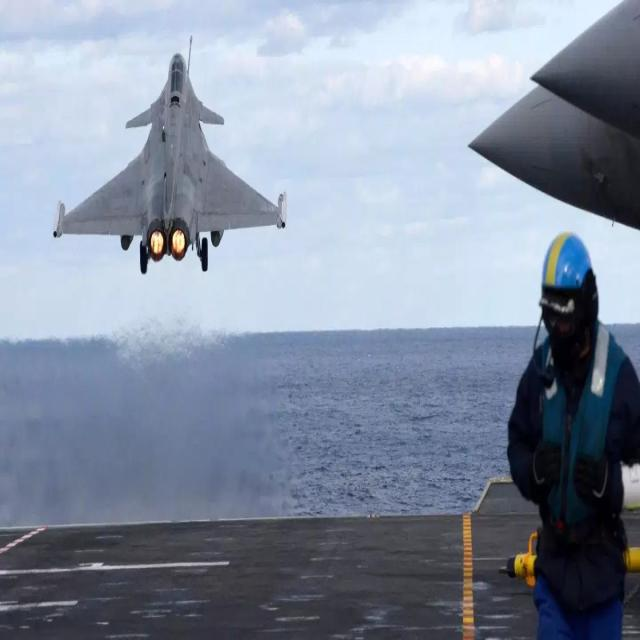MIL_Plane: (53, 33, 287, 274)
